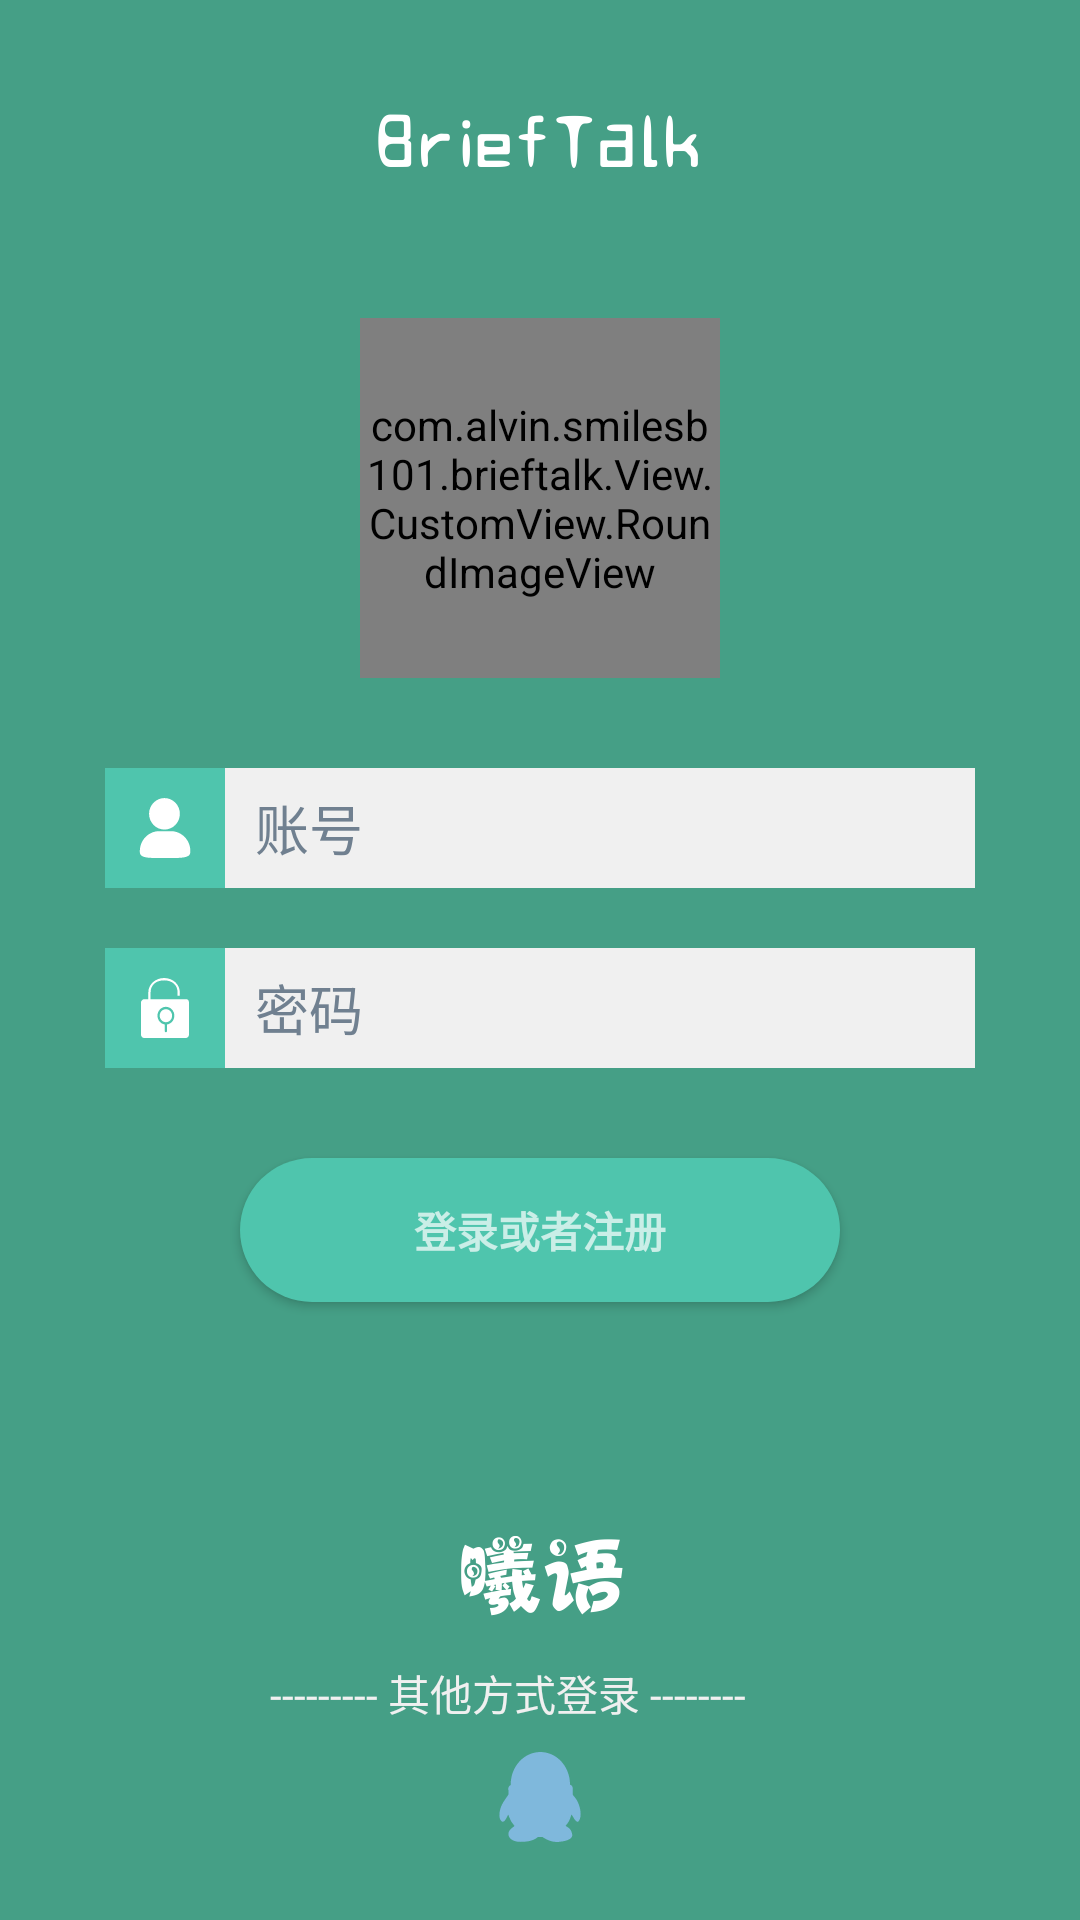

Icons on this 1080 x 1920 Android screen, each with the point to tap as (x,y):
password: (165,1008)
username: (165,828)
